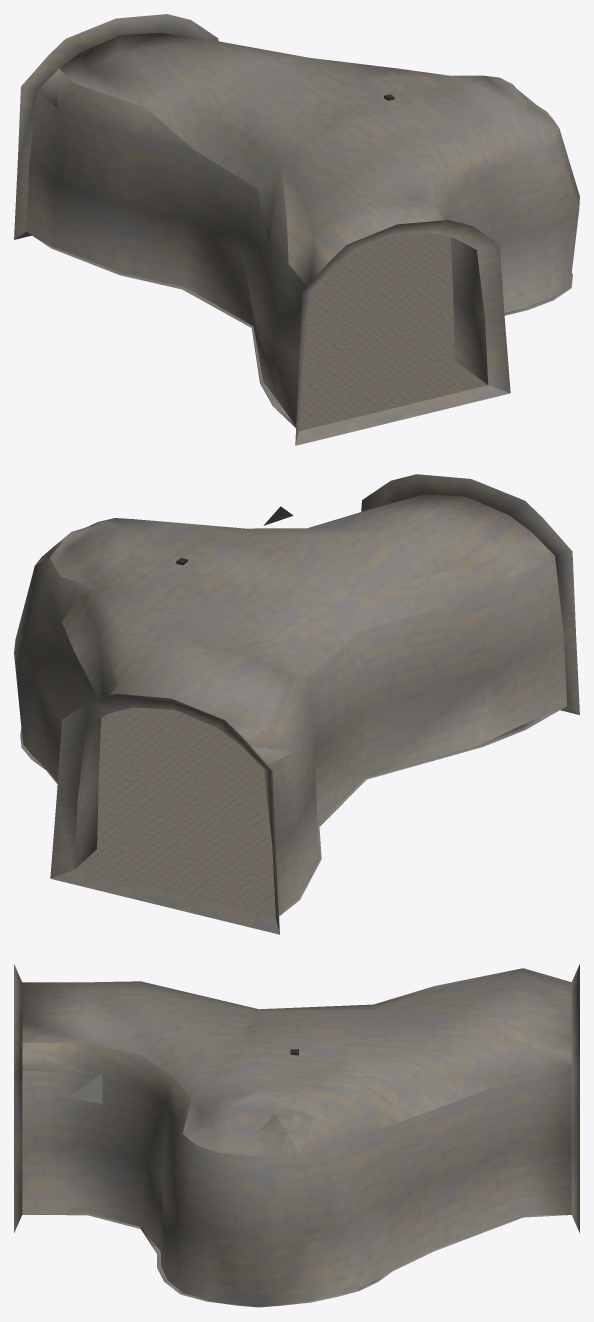
Rendered from R_Tun3.glb.
The picture shows the model from 3 angles, top to bottom: view 1: azimuth 30°, elevation 25°; view 2: azimuth 150°, elevation 25°; view 3: azimuth 270°, elevation 25°; orthographic projection. The views are drawn at different scales.
Parts seen in each view (by area): view 1: _R_Tun3; view 2: _R_Tun3; view 3: _R_Tun3.
Boxes of the visible parts, bbox=[...] form: _R_Tun3: bbox=[14, 14, 579, 445]; _R_Tun3: bbox=[14, 474, 579, 934]; _R_Tun3: bbox=[14, 964, 579, 1307].
Size of the model in its own units: 8.32 by 3.97 by 10.3.
4 materials, 4 textured.
